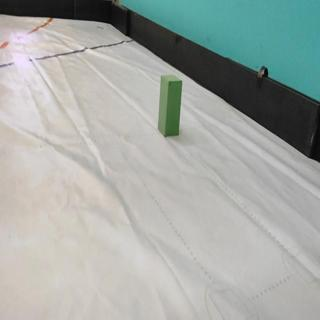greenbox: (157, 75, 183, 139)
